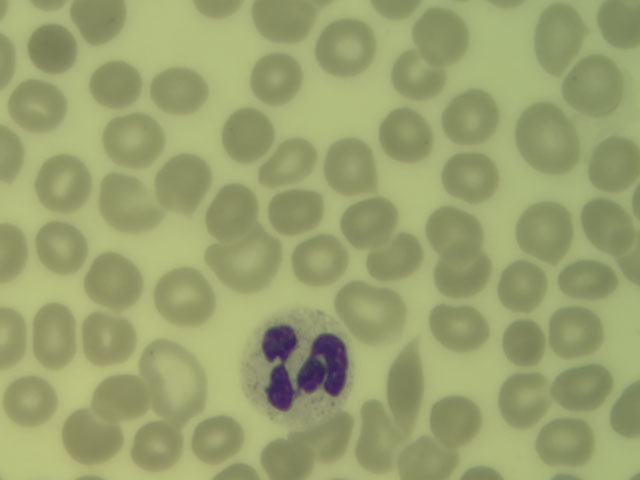RBC: (143, 343, 208, 413), (519, 101, 583, 172), (207, 236, 283, 285), (338, 285, 406, 339), (33, 154, 94, 213), (102, 116, 168, 167), (153, 266, 211, 324), (518, 204, 575, 260), (570, 56, 623, 116), (89, 256, 145, 310), (98, 176, 155, 229), (446, 91, 503, 144), (325, 138, 378, 194), (65, 412, 124, 462), (535, 5, 581, 69), (552, 362, 614, 408), (33, 307, 78, 370), (389, 346, 424, 427), (387, 108, 435, 164), (427, 307, 492, 348), (253, 3, 323, 41), (90, 59, 142, 110), (224, 104, 272, 159), (592, 134, 638, 191), (551, 307, 604, 356), (578, 202, 635, 246), (251, 53, 301, 103), (345, 197, 399, 243), (448, 157, 503, 202), (429, 213, 486, 256), (159, 159, 208, 209), (320, 24, 370, 73), (363, 398, 394, 476), (37, 224, 87, 272), (73, 1, 128, 44), (4, 378, 54, 424), (262, 138, 319, 178), (267, 194, 327, 232), (298, 237, 347, 283), (501, 375, 547, 424), (154, 69, 210, 109), (562, 259, 616, 300), (84, 316, 132, 362), (399, 437, 449, 480), (539, 423, 592, 463), (16, 80, 60, 128), (392, 52, 441, 95), (434, 394, 478, 441), (502, 320, 546, 367), (370, 239, 427, 275), (415, 17, 472, 53), (32, 25, 77, 70), (90, 378, 143, 416), (264, 434, 309, 478), (132, 424, 181, 464), (206, 188, 254, 228), (1, 221, 29, 288), (436, 255, 484, 294), (598, 2, 640, 46), (613, 379, 640, 443), (194, 424, 245, 457), (502, 266, 543, 306), (1, 305, 24, 374), (313, 420, 352, 456), (1, 122, 22, 184), (617, 234, 640, 283), (1, 32, 17, 94), (199, 1, 243, 20), (373, 2, 418, 18), (465, 464, 505, 478), (219, 465, 256, 480), (32, 2, 63, 8)
WBC: (243, 316, 353, 413)
